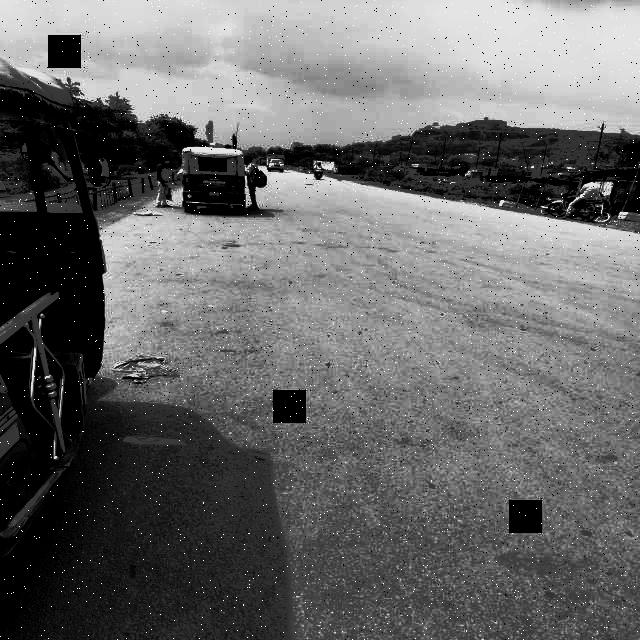Auto-Rickshaw: (3, 55, 121, 573), (168, 138, 252, 218)
